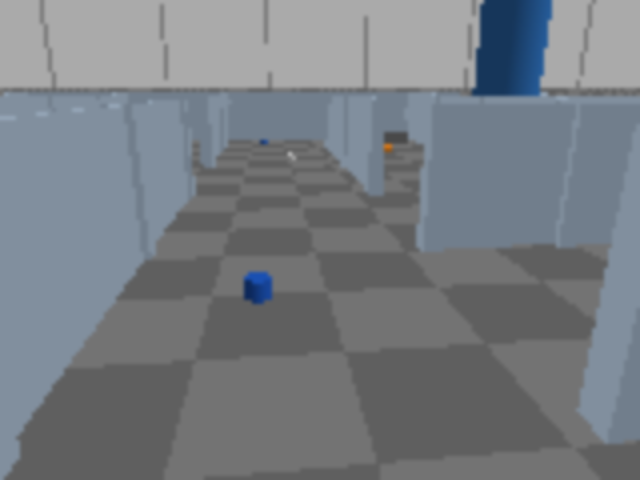puck: (245, 272, 272, 302)
